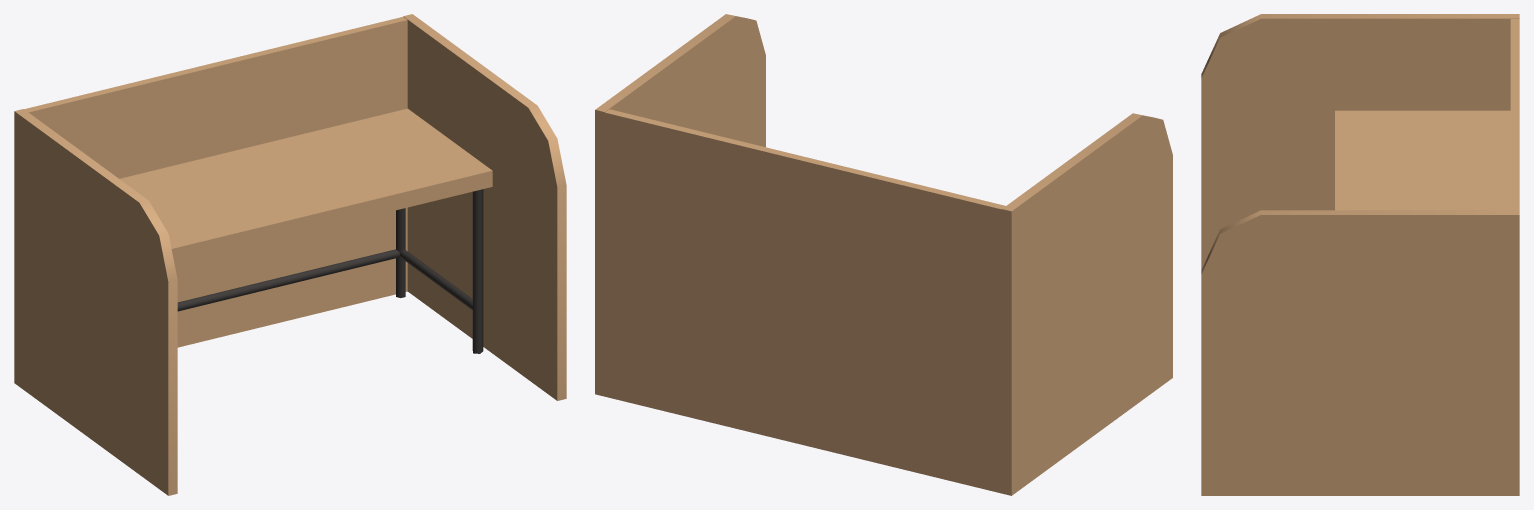
The model's file is desk1.FBX.
3 views of the same model, side by side, from view 1: azimuth 30°, elevation 25°; view 2: azimuth 150°, elevation 25°; view 3: azimuth 270°, elevation 25° (orthographic). The views are drawn at different scales.
Visible parts, largest first — view 1: desk1; view 2: desk1; view 3: desk1.
Part boxes in pixels (x1,y1,x2,y2): desk1: [14, 14, 566, 495]; desk1: [595, 14, 1172, 495]; desk1: [1201, 14, 1519, 495].
Bounding box in the file's own units: 173 × 113 × 116.
Materials: 1 (1 with a texture image).
